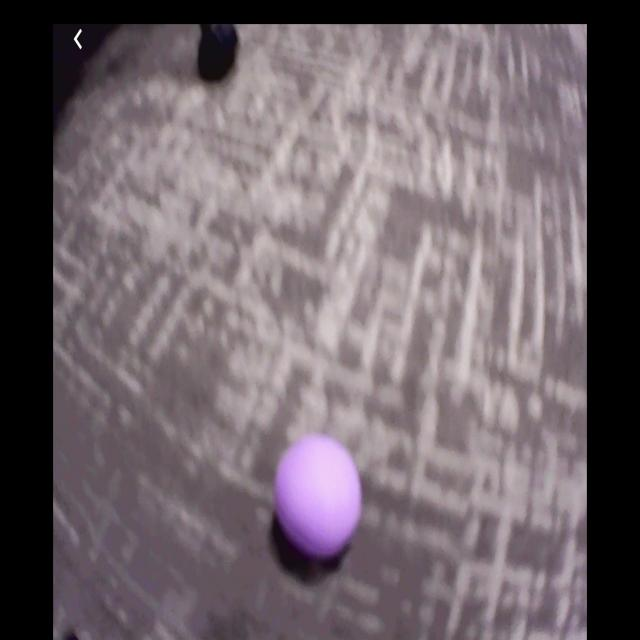ball: (277, 435, 363, 561)
